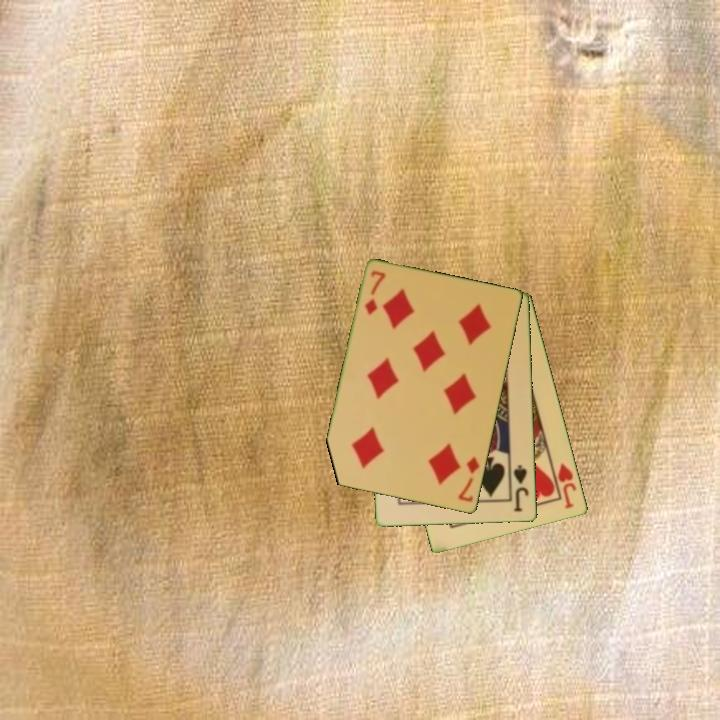7d: (455, 453, 483, 505), (361, 268, 389, 318)
Jh: (554, 460, 579, 512)
Js: (510, 462, 531, 515)
